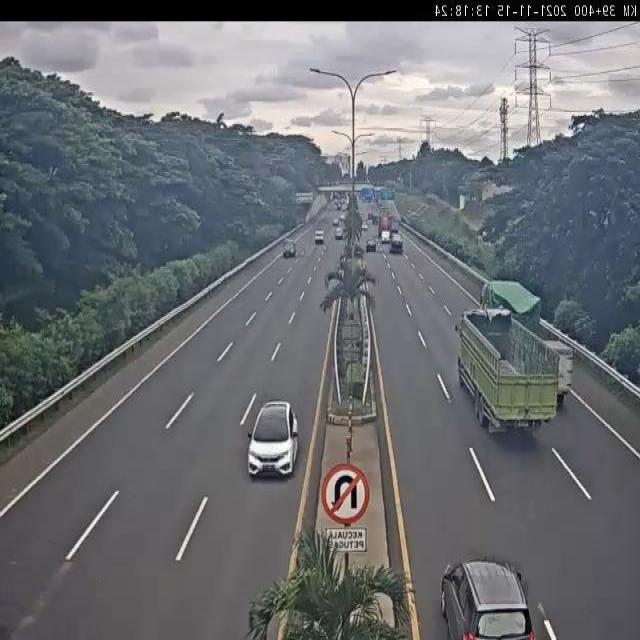Car: (438, 557, 537, 640), (245, 398, 301, 481), (365, 237, 377, 254), (334, 227, 343, 241)
Truck: (454, 308, 562, 439), (478, 278, 543, 333), (389, 232, 404, 256)
